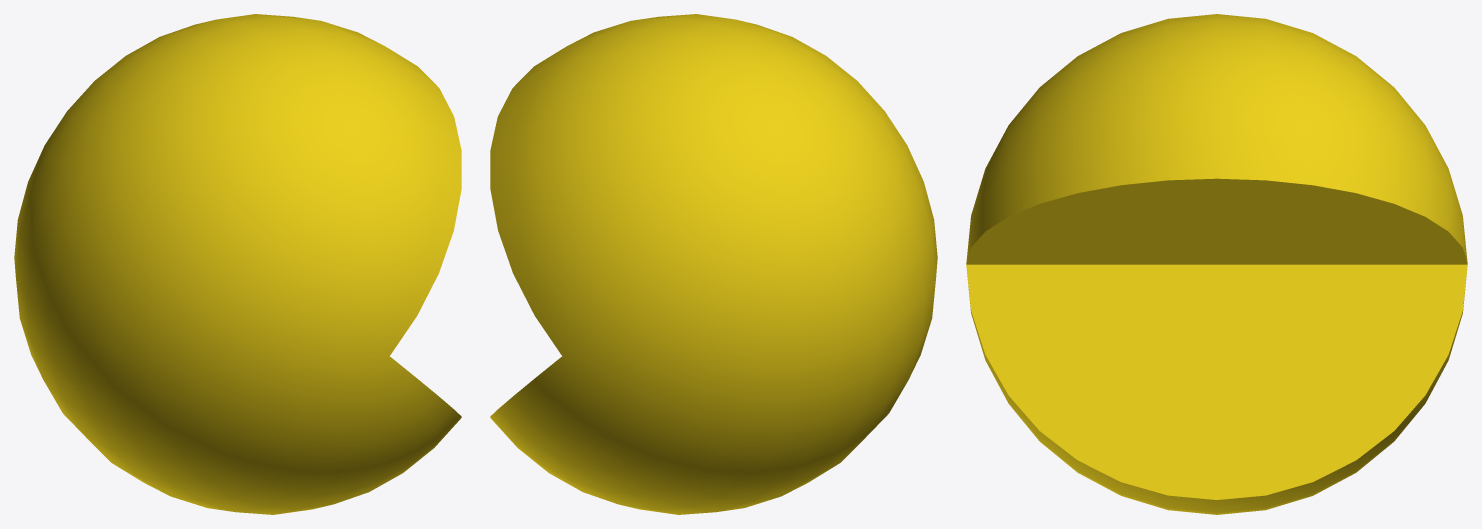
File: pac.fbx
3 views of the same model, side by side, from view 1: azimuth 30°, elevation 25°; view 2: azimuth 150°, elevation 25°; view 3: azimuth 270°, elevation 25° (orthographic).
Visible parts, largest first — view 1: Sphere; view 2: Sphere; view 3: Sphere.
Boxes of the visible parts, x1=… form: Sphere: x1=14, y1=14, x2=461, y2=514; Sphere: x1=490, y1=14, x2=937, y2=514; Sphere: x1=966, y1=14, x2=1467, y2=514.
Bounding box in the file's own units: 171 × 200 × 200.
